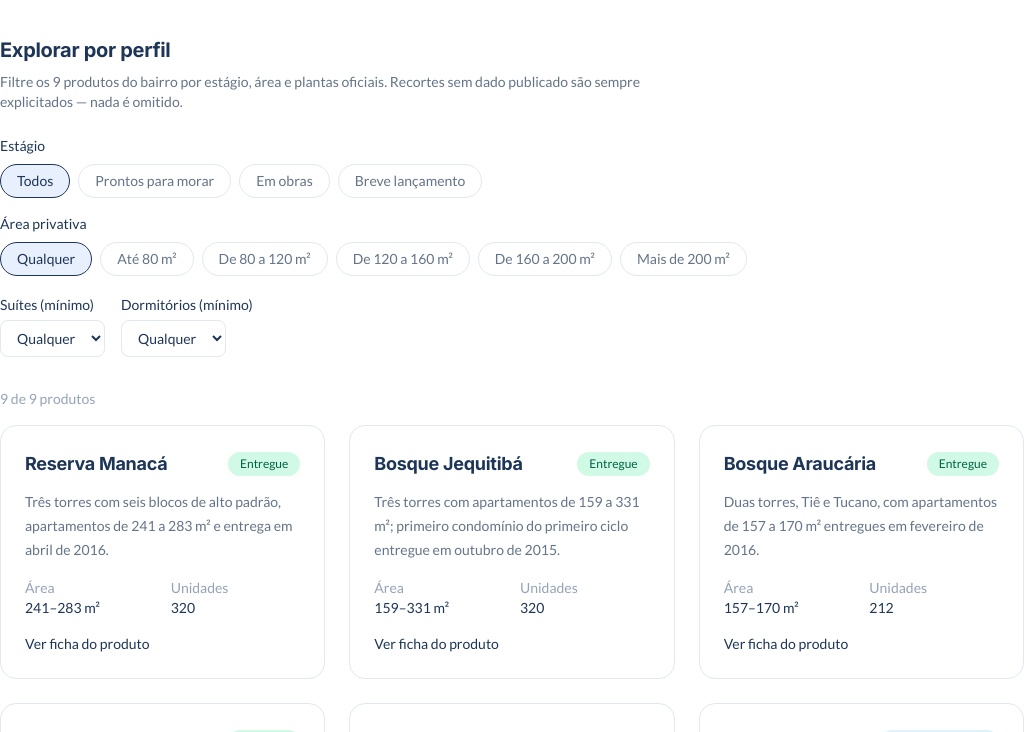
Test: DiscoveryExplorer › discloses data-limitation exclusions instead of hiding them
Select "2+" in the dropdown labelled "Suítes (mínimo)" at (52, 338), box [0, 320, 105, 357]
(page scrolled)
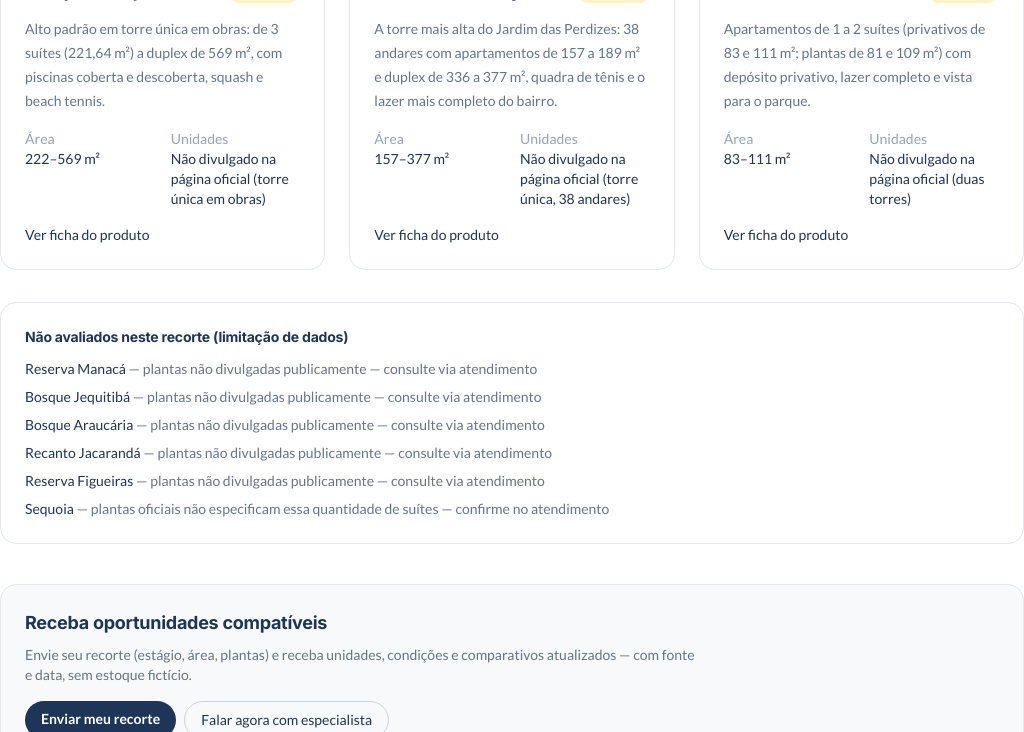
Expected: the text "Reserva Manacá" is shown, [25, 360, 126, 377]
Expected: the heading "Não avaliados neste recorte (limitação de dados)" is shown, [25, 328, 348, 345]
Expected: the list item "plantas oficiais não especificam" is shown, [91, 500, 609, 517]
